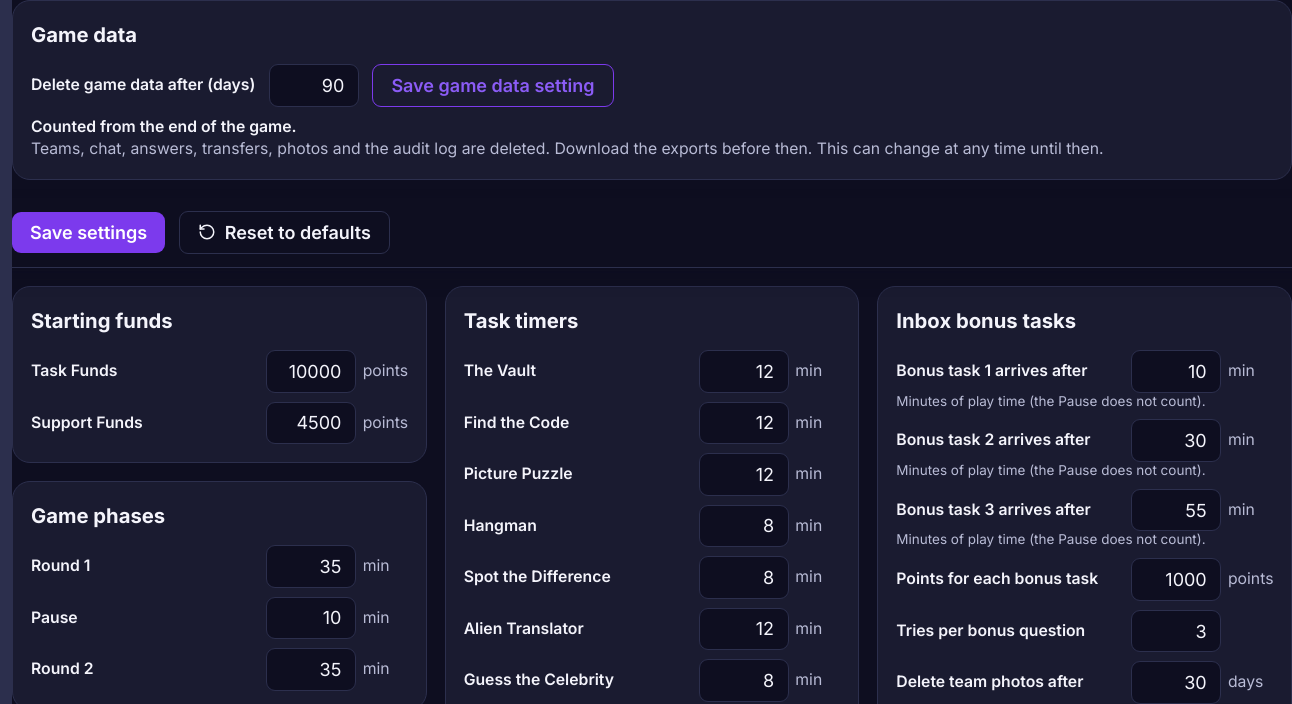
Test: settings tab › warns about unsaved changes until they are saved or undone
Expected: the text "You have unsaved changes" is not shown
Replace the text in the field labelled "Round 1" with "20" at [311, 566], box [266,545,356,588]
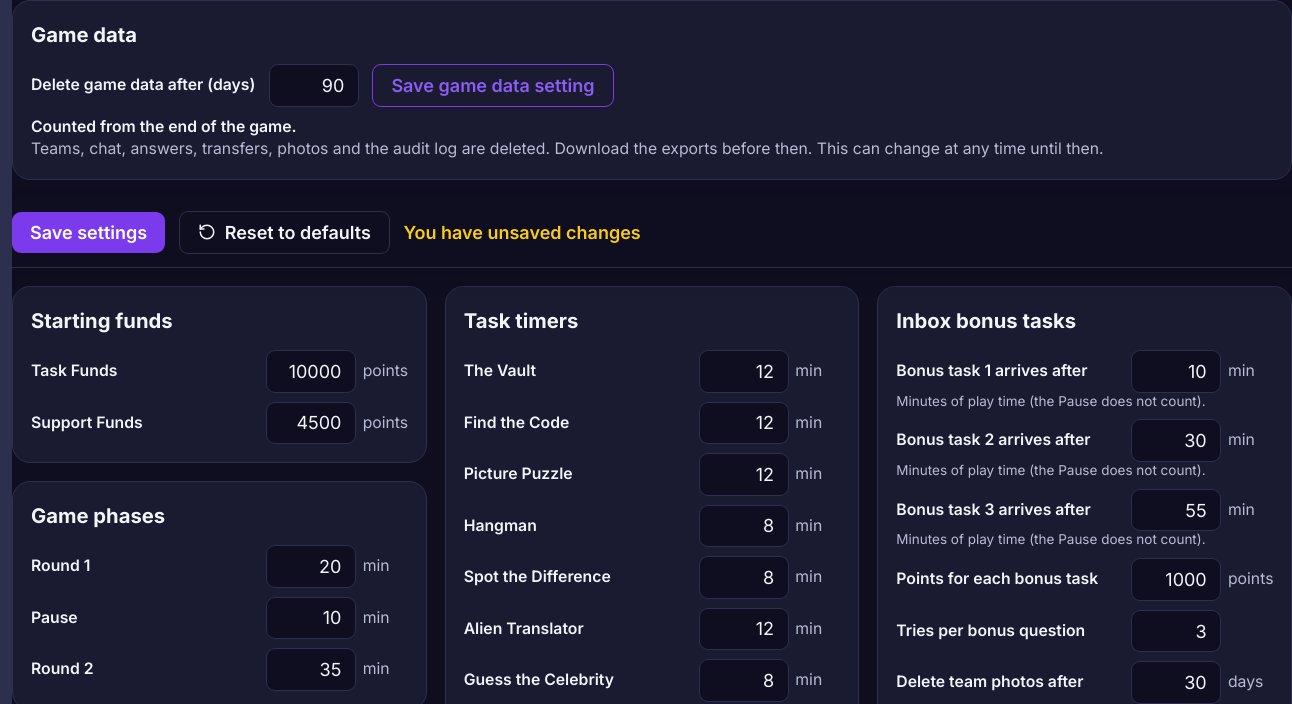
Expected: the text "You have unsaved changes" is shown, [403,219,641,246]
Replace the text in the field labelled "Round 1" with "35" at [311, 566], box [266,545,356,588]
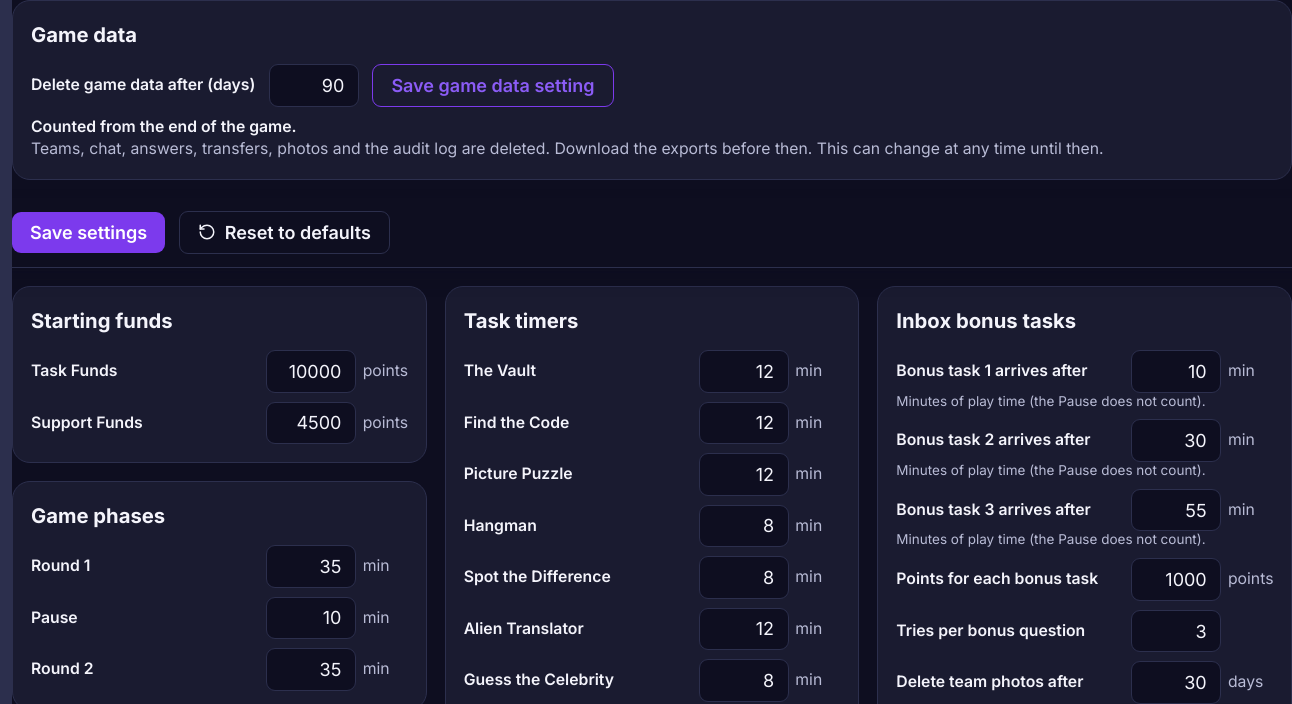
Expected: the text "You have unsaved changes" is gone
